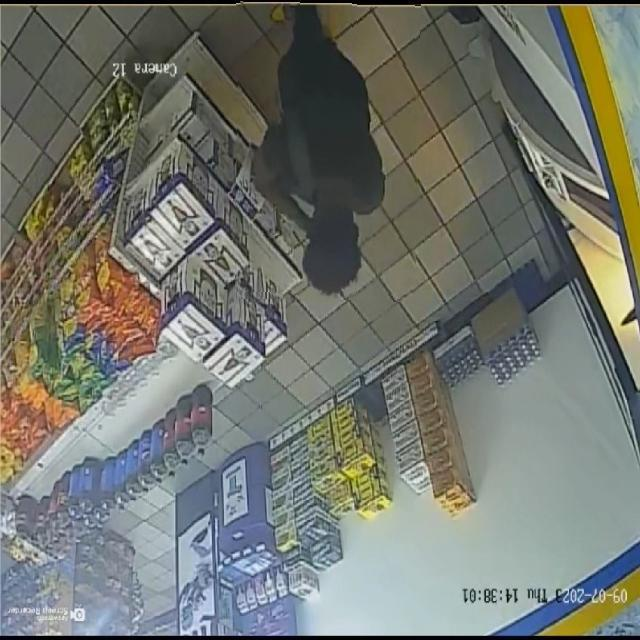Normal: (236, 0, 420, 302)
